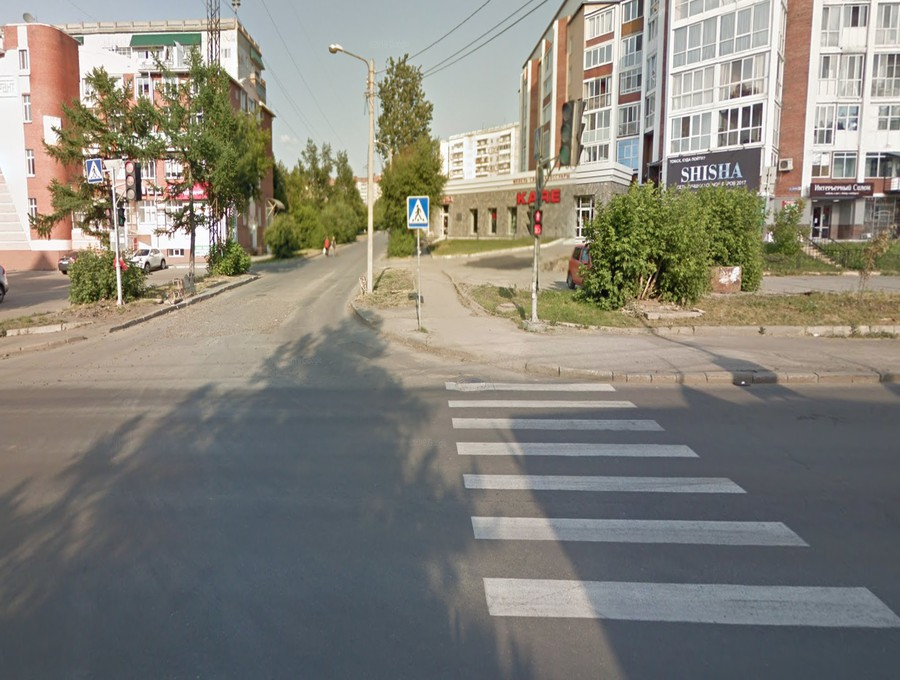Traffic Light-red: (531, 207, 545, 238)
